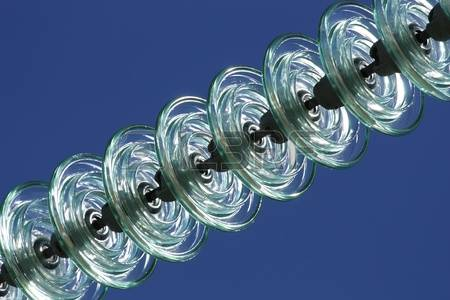isolator: (1, 1, 450, 299)
